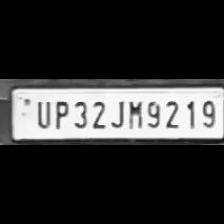1: (180, 97, 198, 128)
2: (88, 97, 106, 129), (162, 97, 180, 129)
3: (71, 97, 88, 129)
9: (197, 97, 219, 128), (142, 97, 162, 128)
J: (108, 96, 125, 128)
M: (125, 97, 143, 129)
P: (50, 97, 68, 129)
U: (32, 97, 50, 129)
